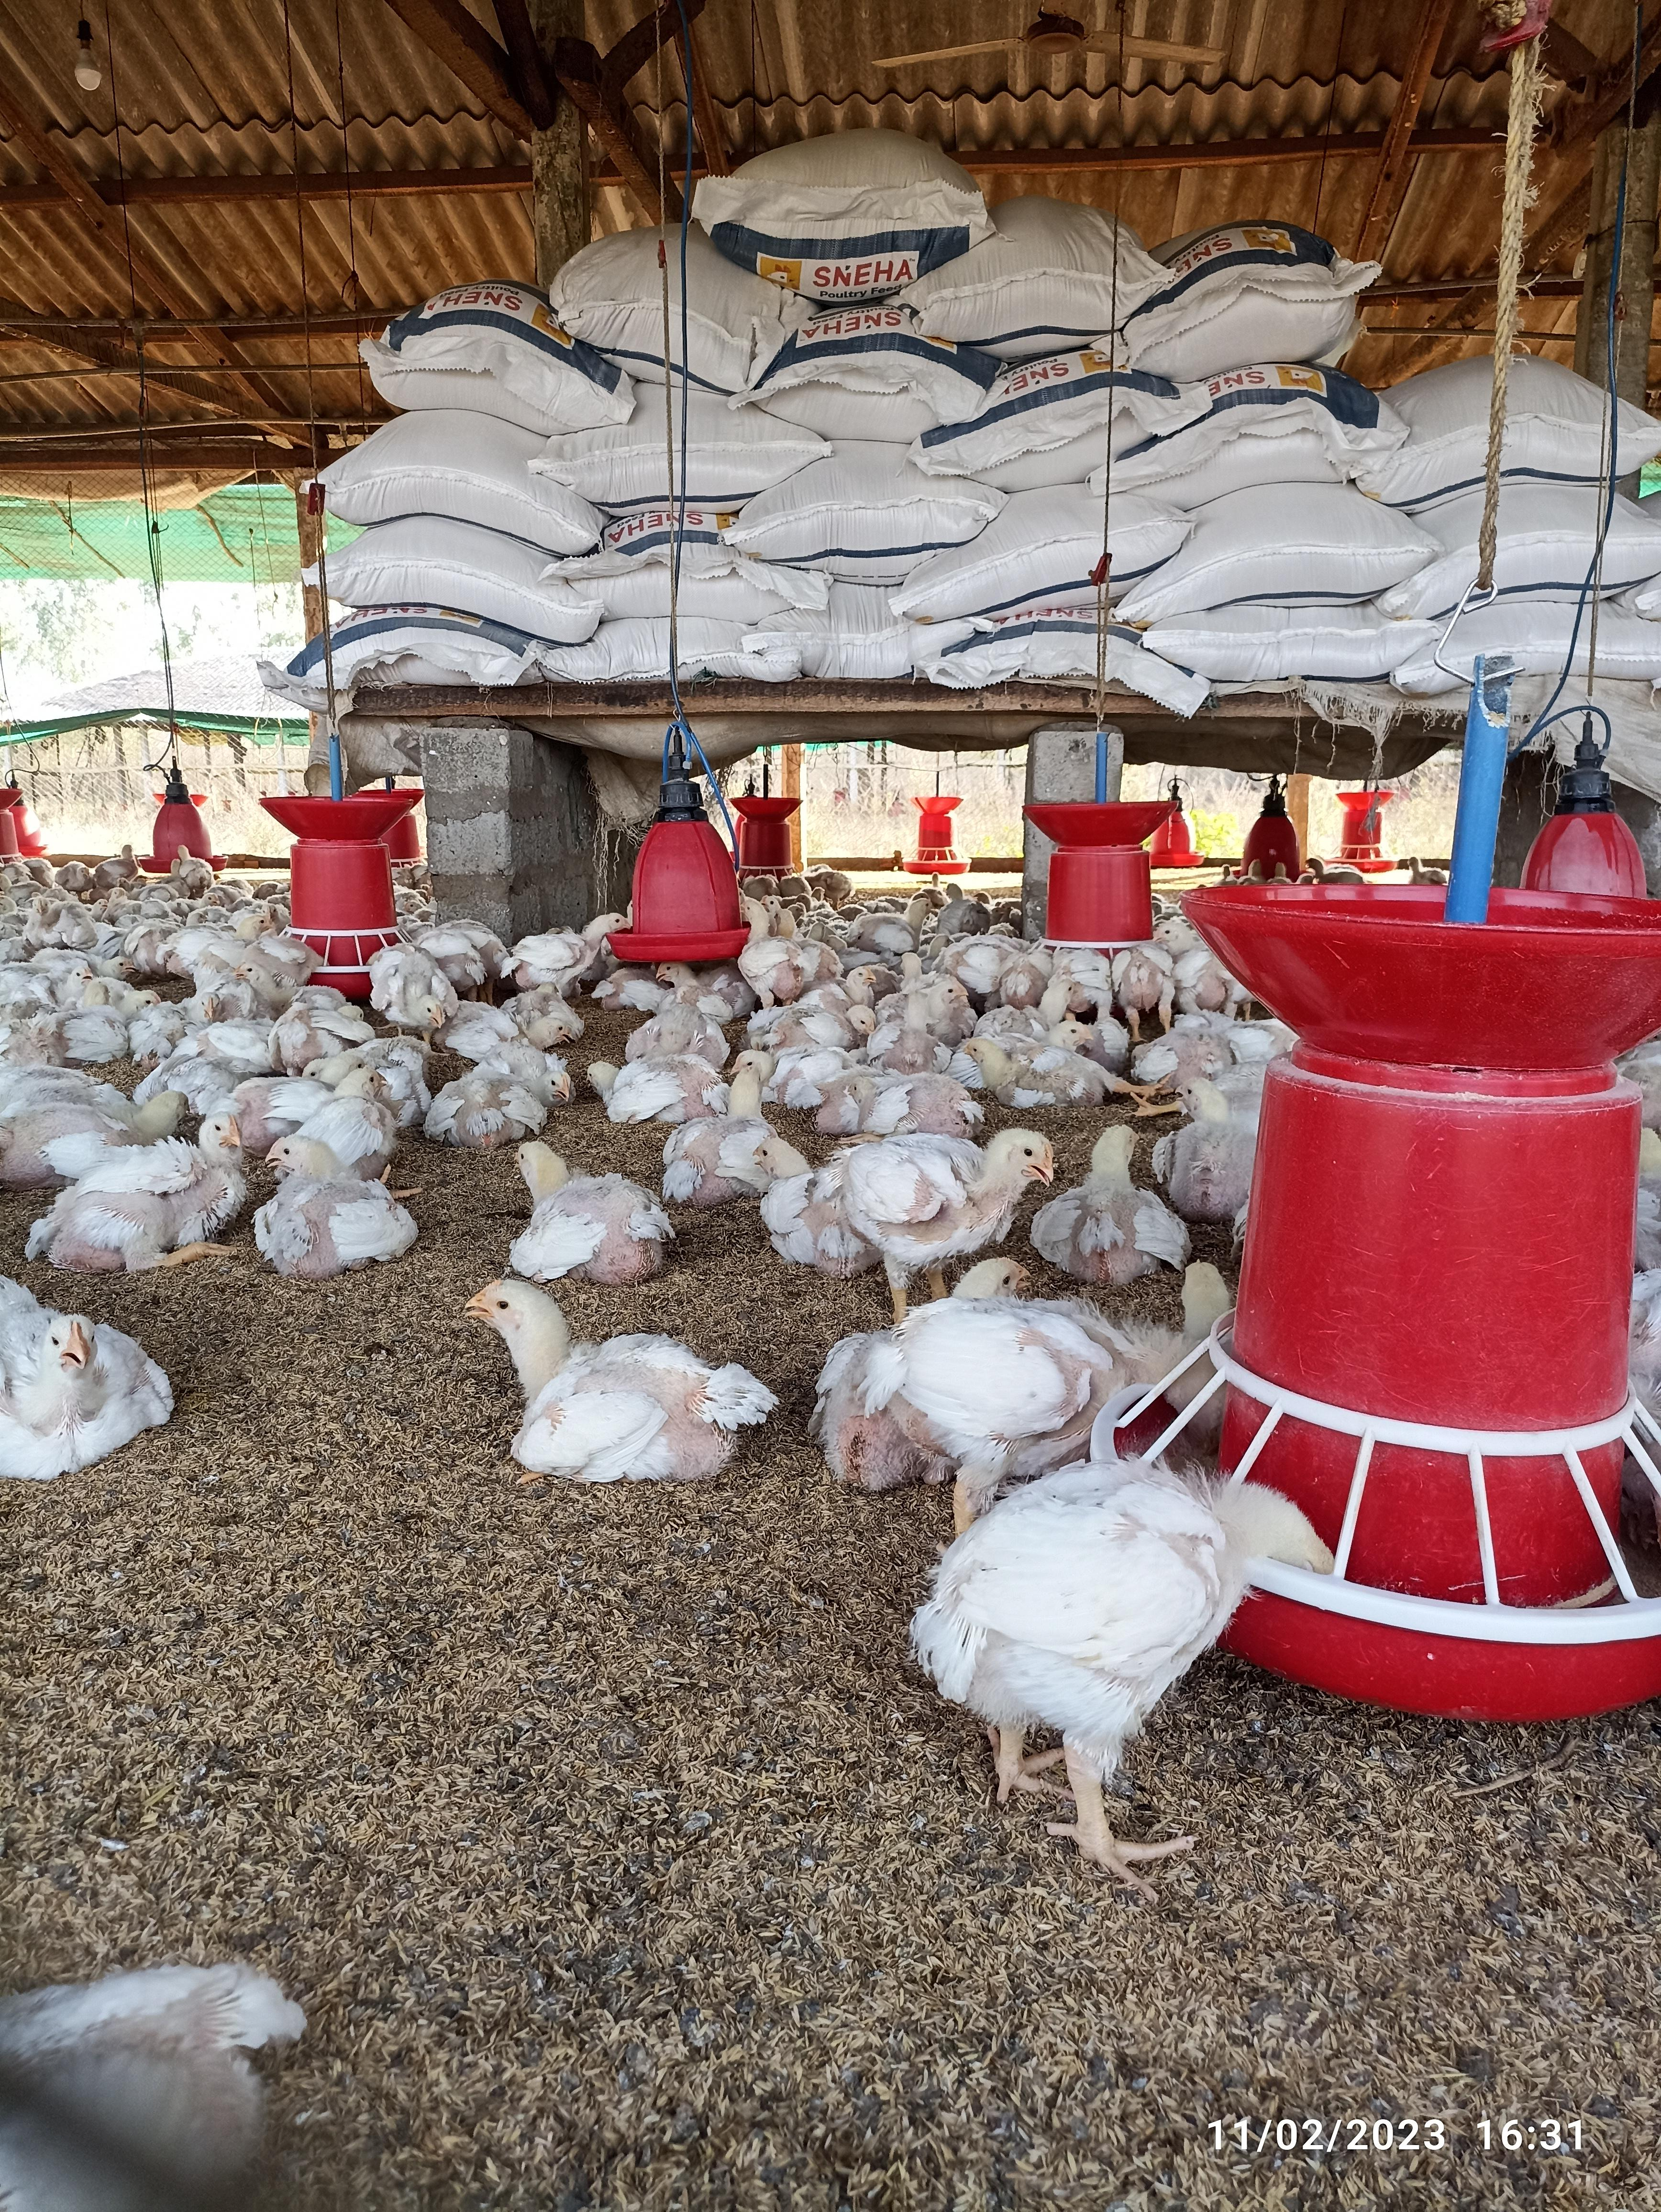Pollos: (906, 1474, 1227, 1767), (461, 1287, 768, 1485), (839, 1291, 1176, 1471), (811, 1106, 1061, 1282), (482, 1139, 666, 1294), (49, 1113, 236, 1254), (5, 1305, 161, 1467), (251, 1127, 417, 1254), (1047, 1113, 1172, 1275), (572, 1045, 733, 1113)
